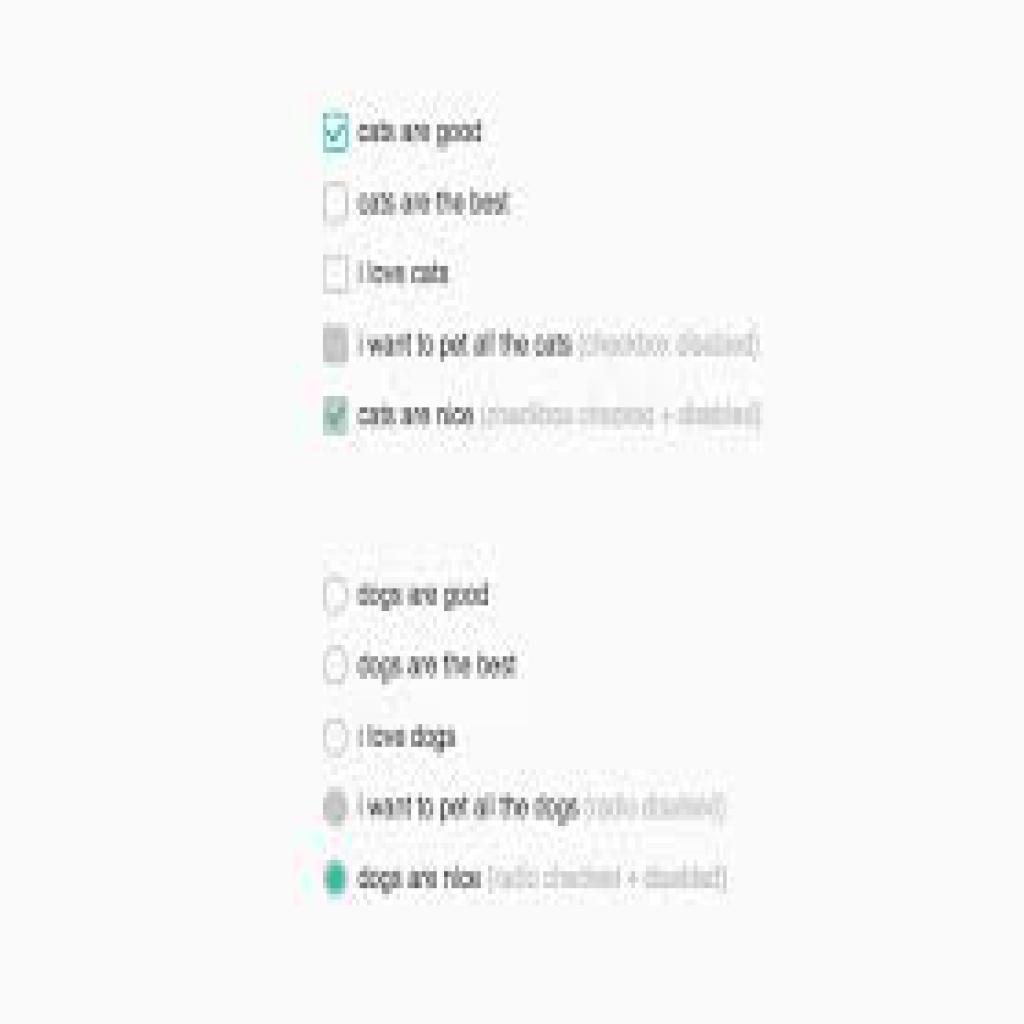checkbox: (324, 323, 352, 369), (325, 182, 351, 229), (322, 396, 350, 436), (324, 114, 350, 155), (325, 255, 350, 294)
label: (359, 786, 727, 830), (355, 326, 767, 364), (353, 400, 765, 434), (353, 864, 732, 899), (356, 649, 522, 688), (358, 189, 514, 222), (356, 582, 498, 615), (354, 120, 487, 153), (355, 722, 463, 757), (355, 259, 450, 285)
radio: (323, 715, 352, 764), (322, 855, 350, 904), (322, 786, 353, 829), (323, 647, 350, 691), (322, 580, 351, 618)
